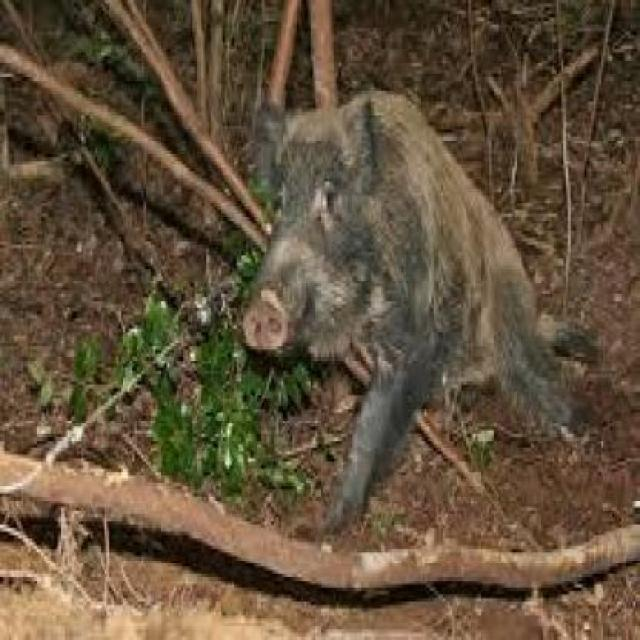Wild Boar: (228, 69, 602, 553)
